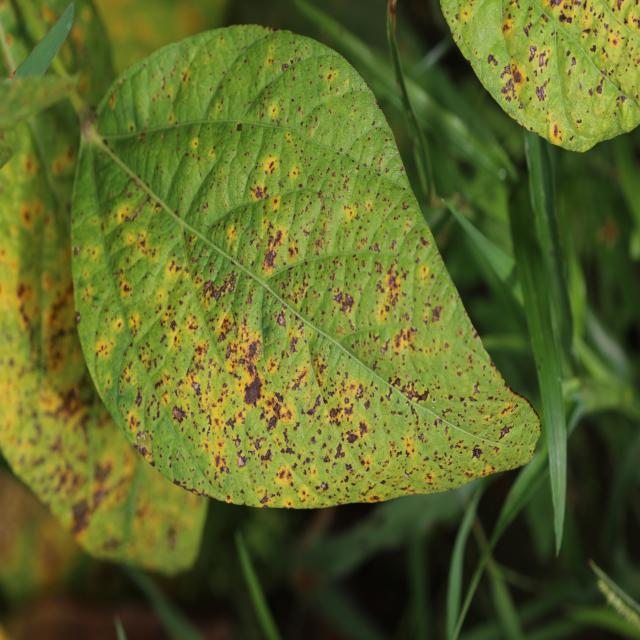Bacterial_Blight: (375, 263, 410, 322), (500, 384, 540, 432), (241, 367, 265, 409), (57, 385, 82, 418), (397, 381, 430, 403), (70, 499, 90, 534), (528, 42, 549, 67), (305, 392, 322, 418), (261, 153, 279, 176), (328, 405, 345, 427), (263, 247, 278, 271), (549, 123, 564, 144), (201, 279, 215, 301), (511, 64, 525, 84), (172, 405, 186, 424), (16, 282, 30, 301), (430, 304, 443, 323), (247, 339, 259, 359), (498, 424, 513, 440), (136, 430, 149, 448), (535, 83, 547, 102), (259, 447, 272, 463), (358, 420, 369, 438), (558, 11, 573, 24), (471, 445, 483, 461), (134, 387, 143, 408), (343, 293, 354, 310), (333, 442, 344, 459), (260, 491, 273, 505), (253, 185, 265, 200), (500, 65, 512, 80), (595, 77, 605, 95), (276, 311, 286, 327), (487, 53, 498, 67), (191, 379, 201, 394), (121, 282, 131, 296), (236, 453, 246, 467), (523, 23, 532, 38), (472, 381, 480, 395), (72, 244, 81, 256), (170, 319, 178, 331), (75, 311, 82, 324), (320, 481, 329, 491), (235, 122, 243, 132), (590, 44, 597, 53), (588, 87, 594, 97)
Soybean: (72, 26, 540, 508)
